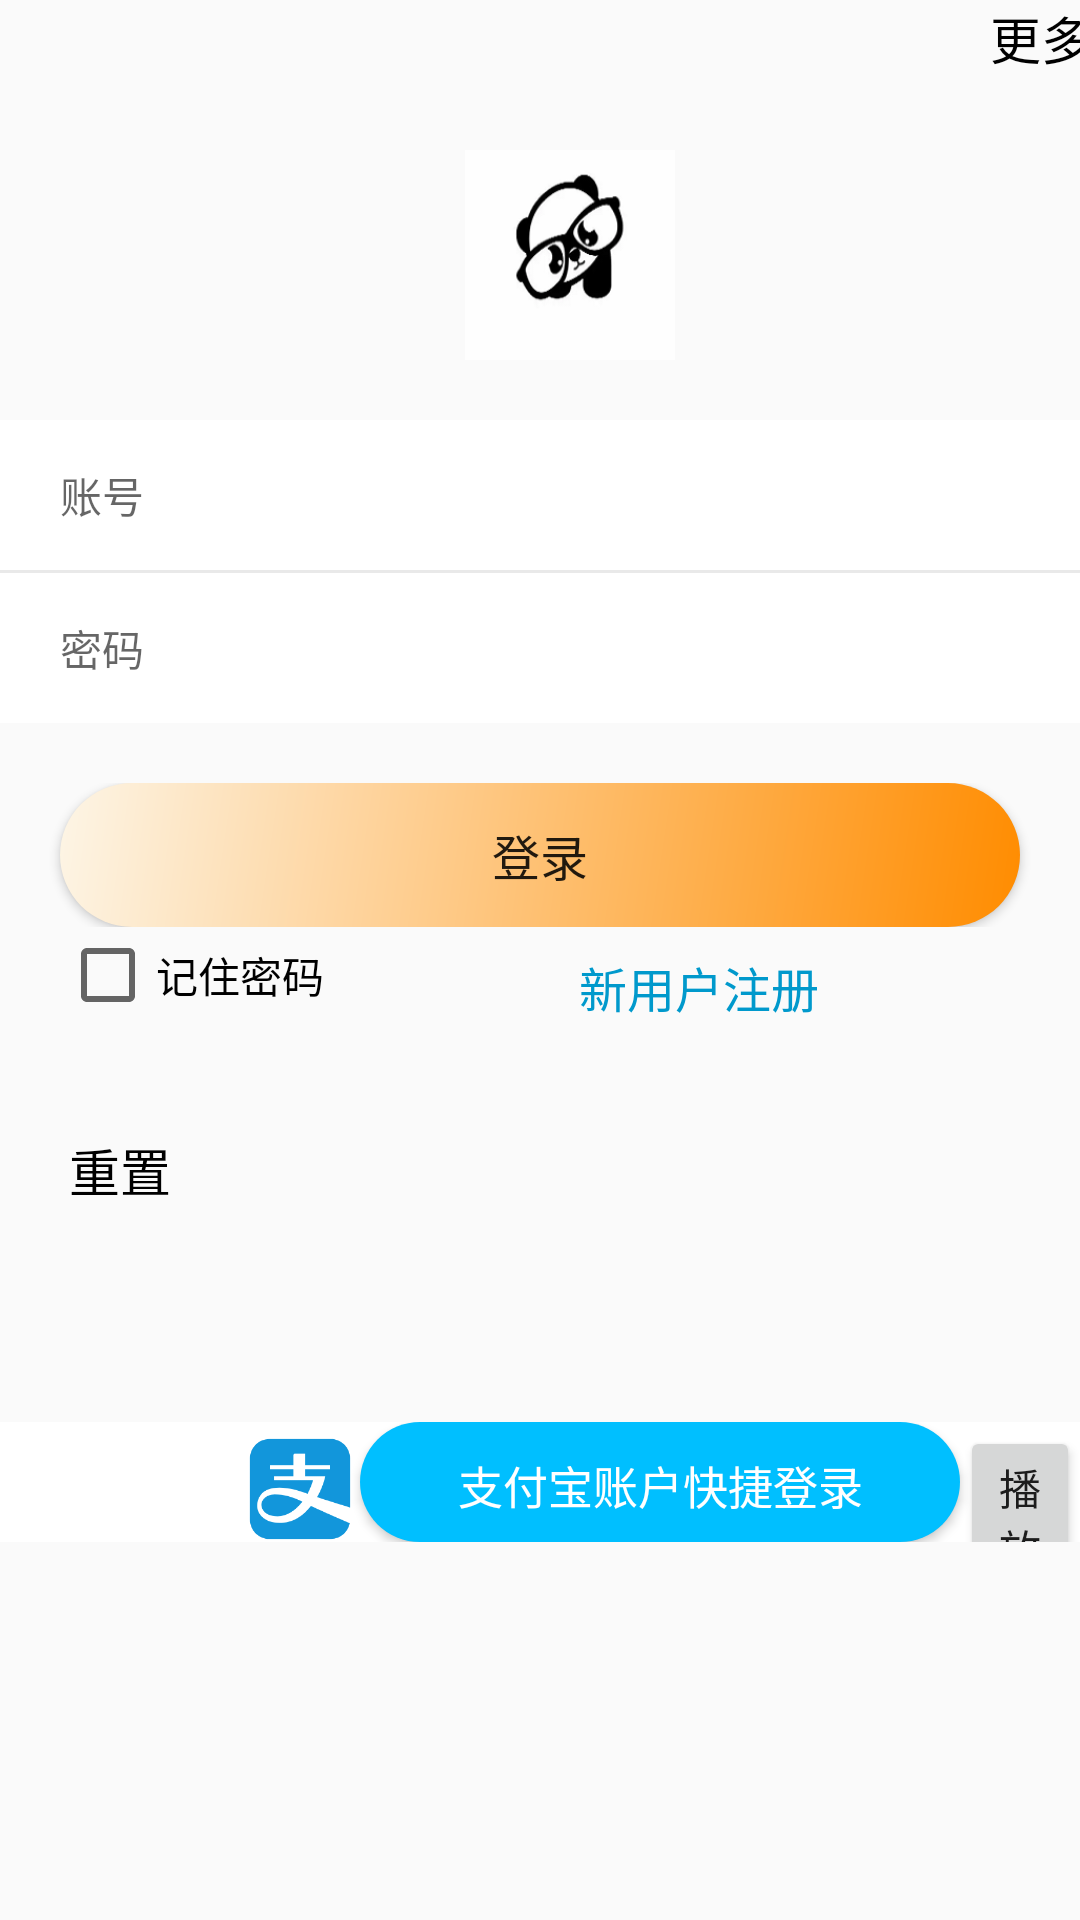

Icon click points for this 1080x1920 phone screenshot, format point (x, y):
head: point (570, 237)
